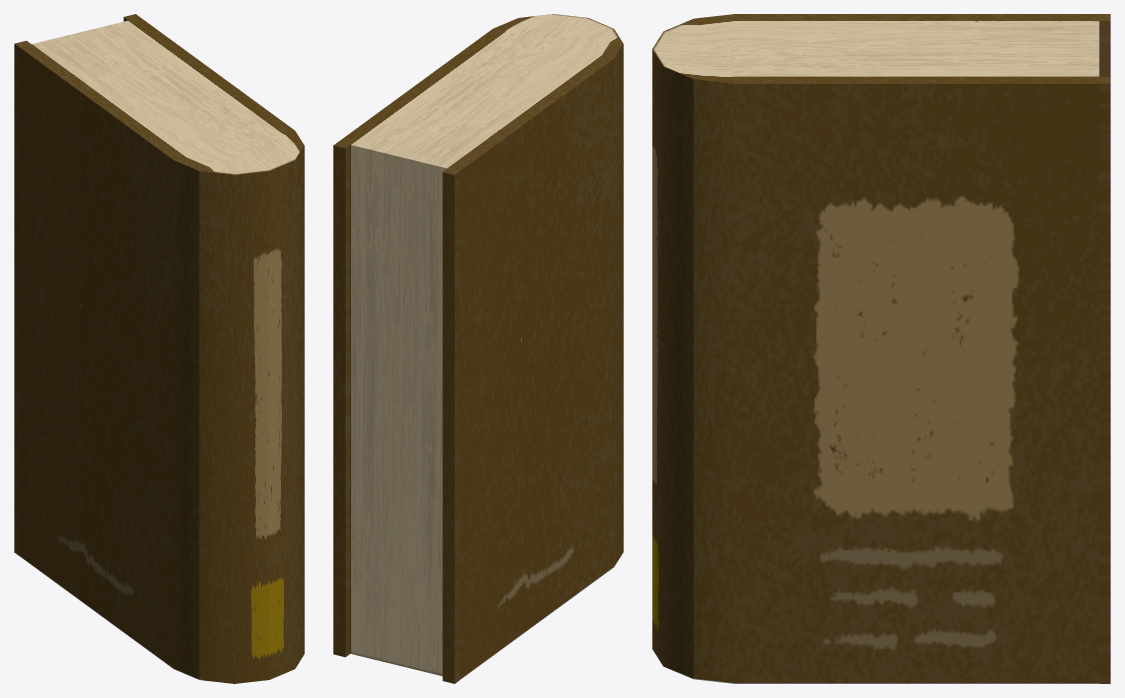
Rendered from TexturedBook.fbx.
3 views of the same model, side by side, from view 1: azimuth 30°, elevation 25°; view 2: azimuth 150°, elevation 25°; view 3: azimuth 270°, elevation 25° (orthographic). The views are drawn at different scales.
Parts seen in each view (by area): view 1: pCube1; view 2: pCube1; view 3: pCube1.
Boxes of the visible parts, <box> form: pCube1: <box>14,14,304,683</box>; pCube1: <box>333,14,623,683</box>; pCube1: <box>652,14,1110,683</box>.
Bounding box in the file's own units: 2.48 × 9.95 × 6.89.
Materials: 1 (1 with a texture image).
